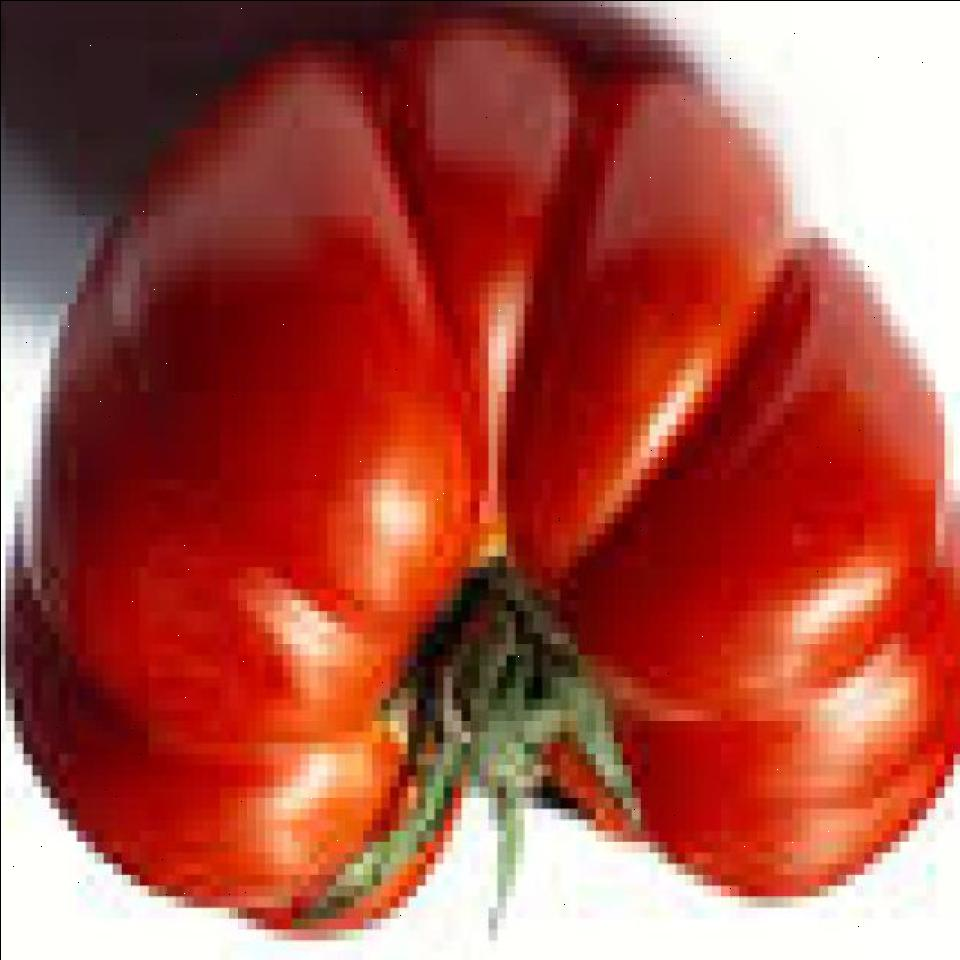Healthy: (12, 12, 960, 945)
